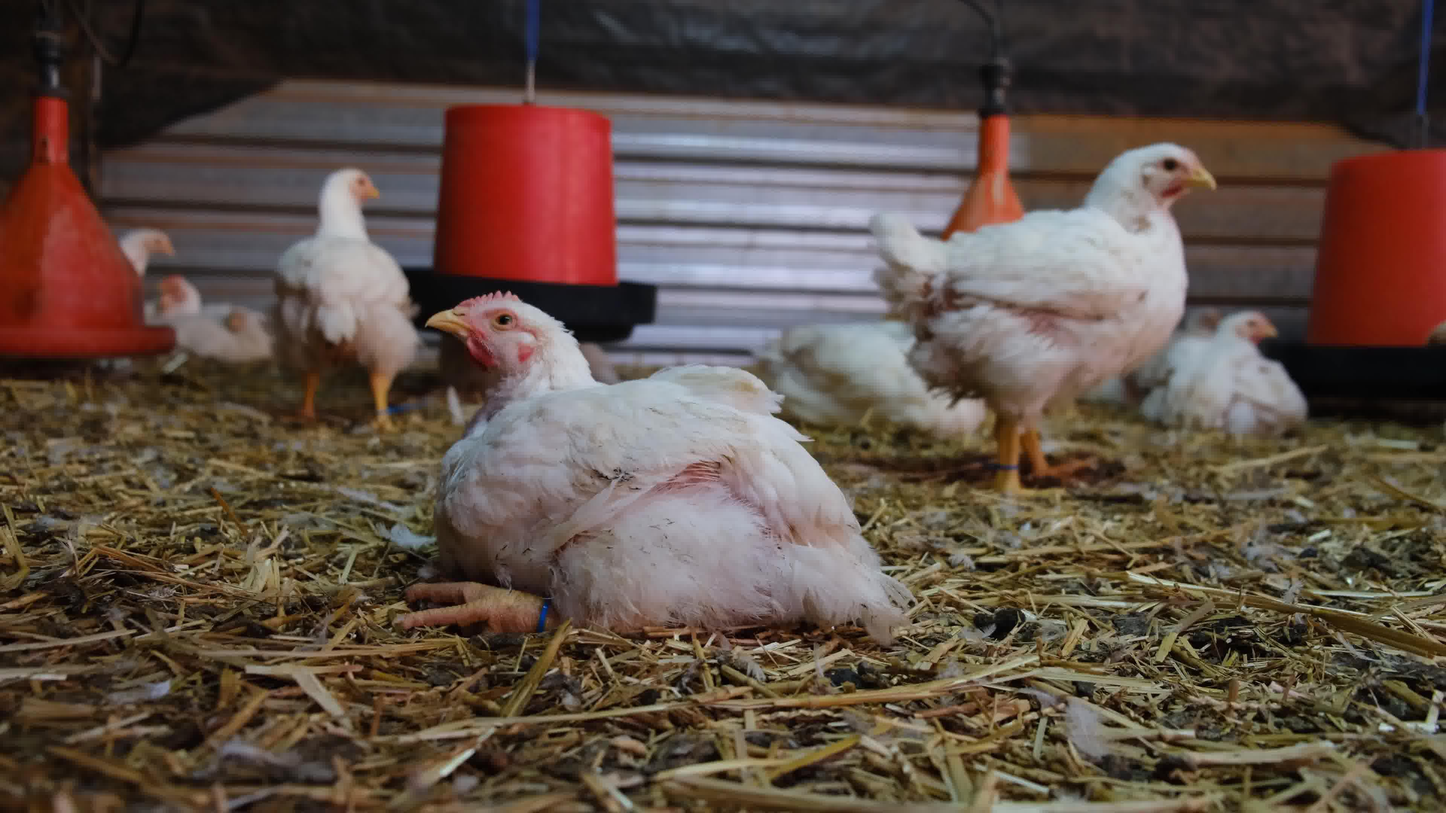AbNormal: (407, 284, 921, 647), (738, 294, 1056, 442), (1171, 305, 1320, 440), (151, 269, 271, 359), (1156, 290, 1237, 390)
Normal: (851, 141, 1192, 501), (262, 160, 429, 448), (105, 203, 190, 286)
